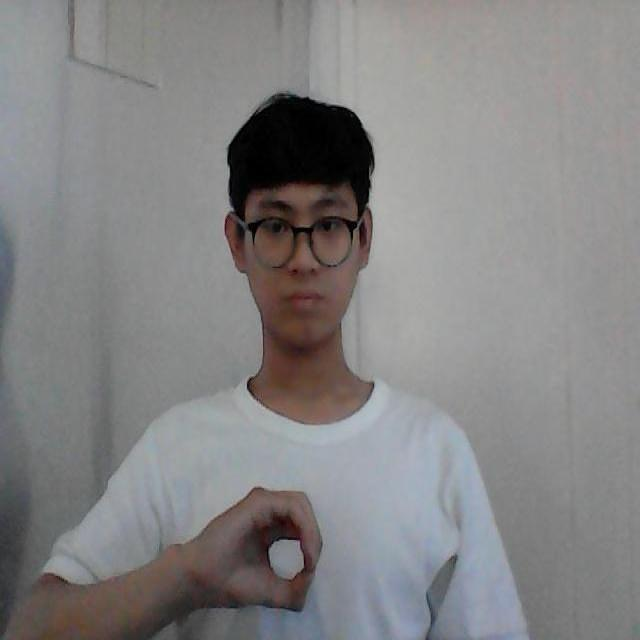O: (214, 478, 329, 619)
